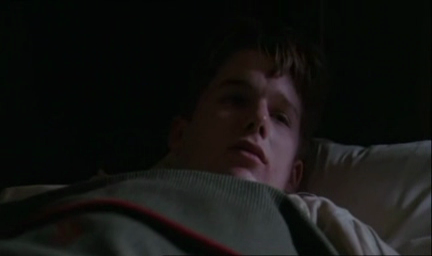cu: (1, 1, 432, 256)
face: (189, 72, 301, 191)
person: (1, 31, 401, 256)
